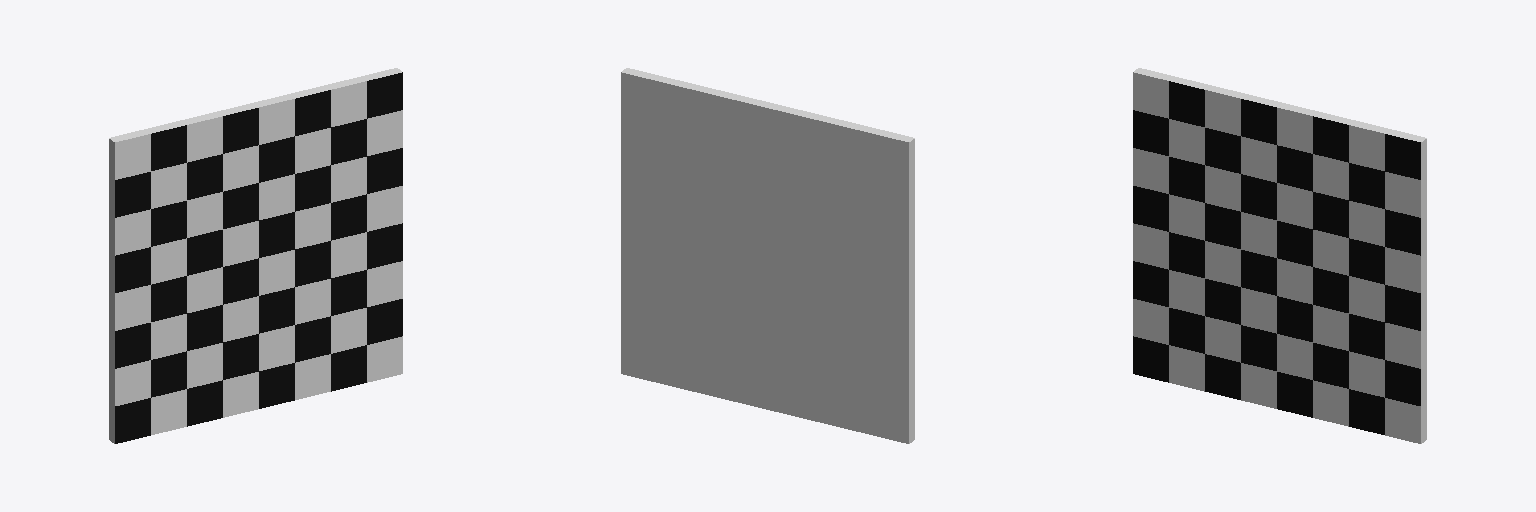
File: simpleBoard.obj
3 renders of one model, left to right at view 1: azimuth 30°, elevation 25°; view 2: azimuth 150°, elevation 25°; view 3: azimuth 330°, elevation 25°, orthographic.
Parts seen in each view (by area): view 1: Body1; view 2: Body1; view 3: Body1.
Part boxes in pixels (x1,y1,x2,y2): Body1: (109,68,402,443); Body1: (621,68,914,443); Body1: (1133,68,1426,443).
Size of the model in its own units: 0.508 by 0.508 by 0.0191.